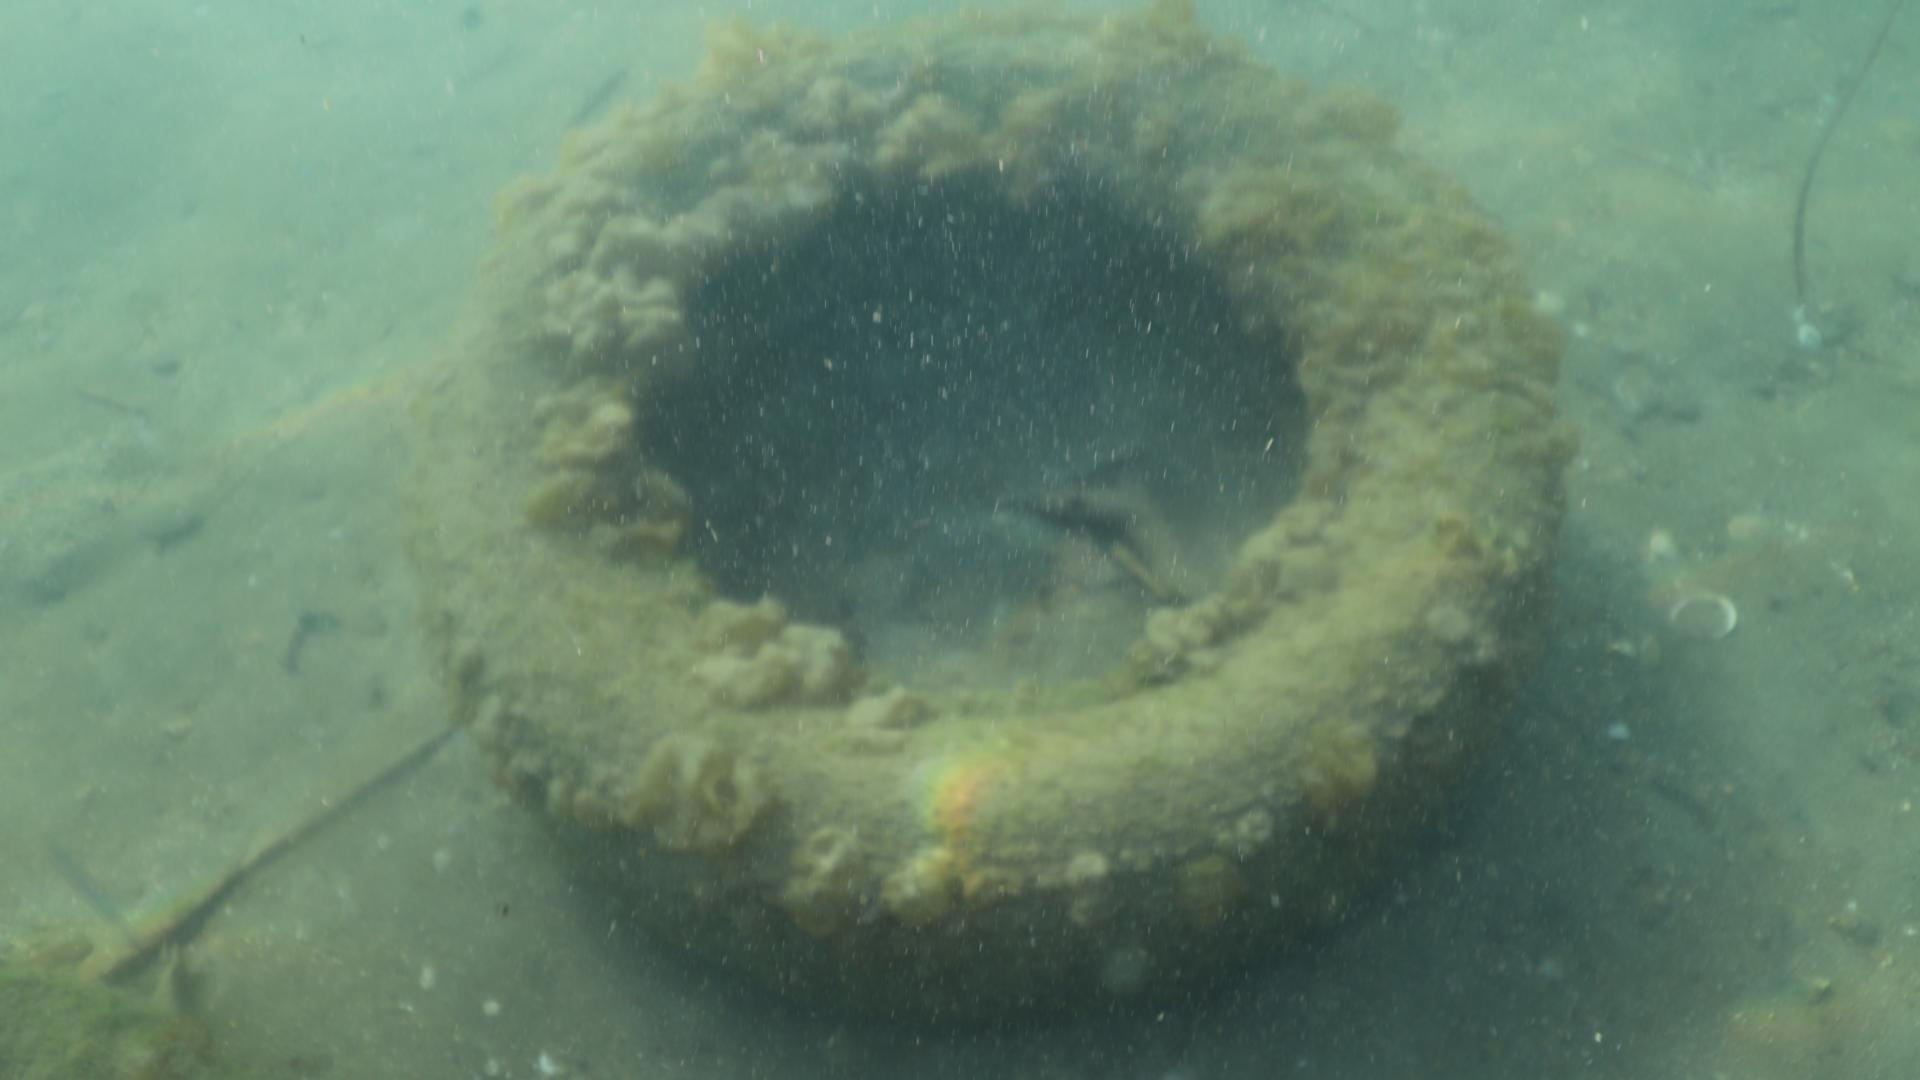tire: (419, 7, 1567, 1021)
